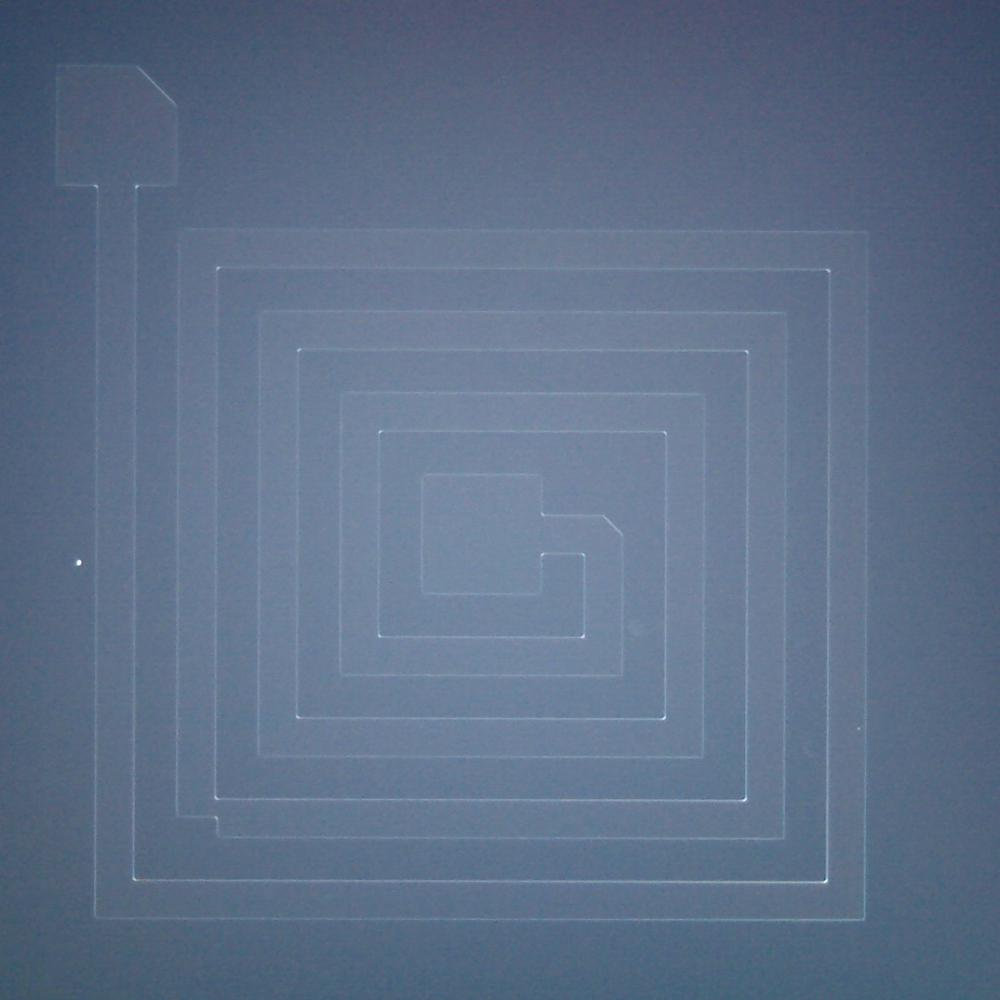dot: (76, 560, 82, 566), (857, 727, 860, 731)
